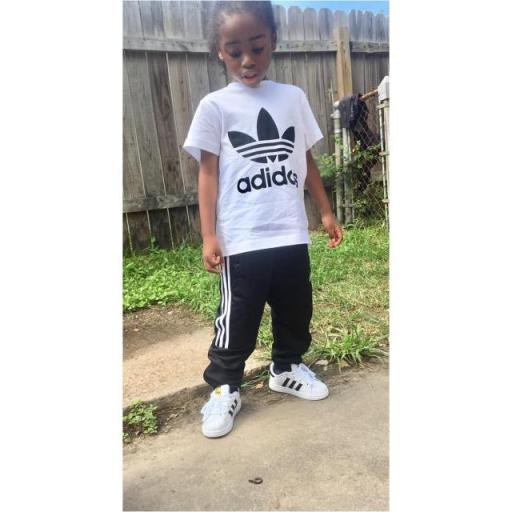Adidas: (227, 104, 301, 194)
